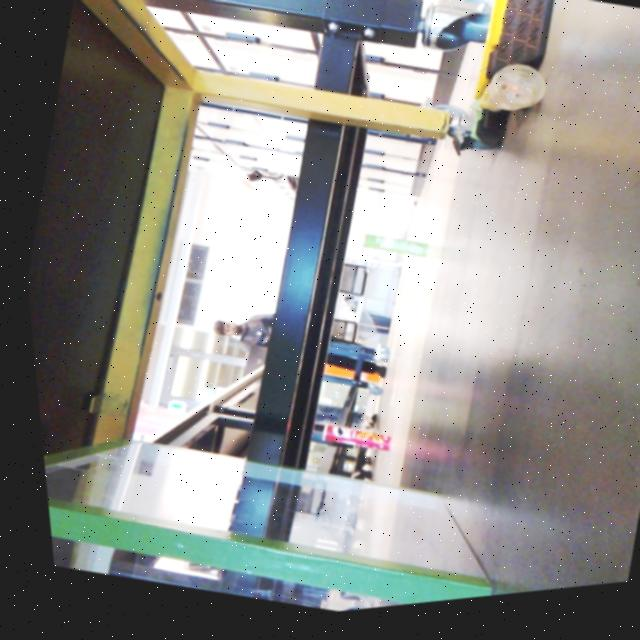greenpringles: (343, 220, 437, 275)
redpringles: (287, 409, 392, 467)
